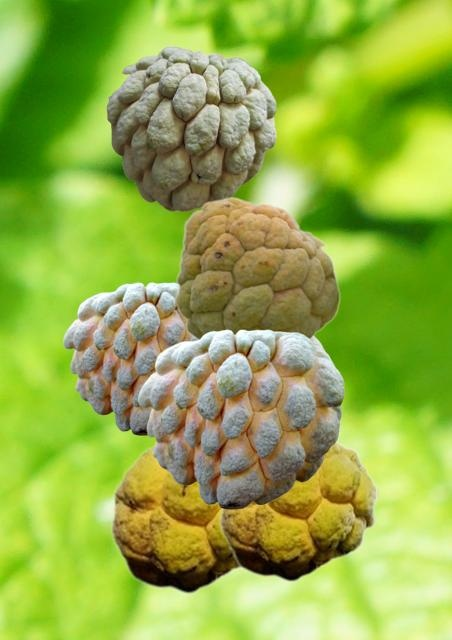atis: (138, 329, 343, 508), (106, 46, 275, 210), (174, 196, 339, 339), (218, 438, 378, 581), (109, 442, 241, 593), (63, 282, 194, 434)
